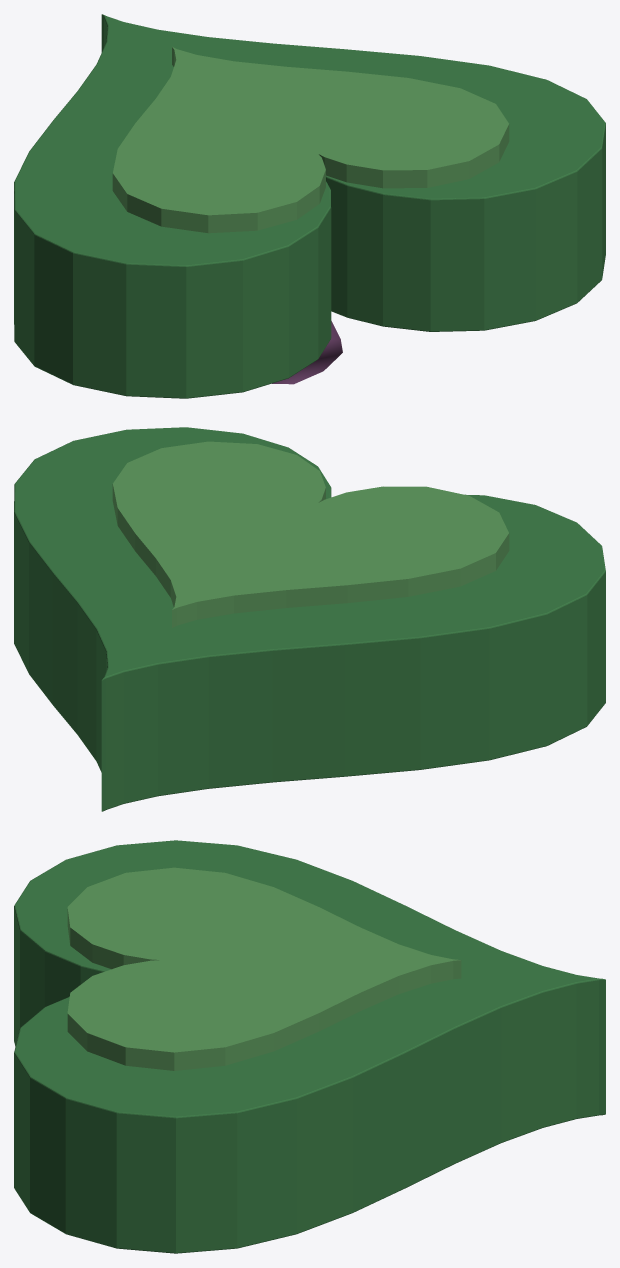
File: kalo.glb
The picture shows the model from 3 angles, top to bottom: view 1: azimuth 30°, elevation 25°; view 2: azimuth 150°, elevation 25°; view 3: azimuth 270°, elevation 25°; orthographic projection. The views are drawn at different scales.
Parts seen in each view (by area): view 1: kalo; view 2: kalo; view 3: kalo.
Part boxes in pixels (x1,y1,x2,y2): kalo: (14,14,605,398); kalo: (14,427,605,811); kalo: (14,840,605,1253).
Bounding box in the file's own units: 1.13 × 0.4842 × 1.02.
